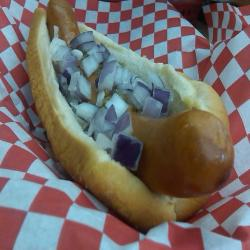hotdog: (28, 1, 240, 237)
